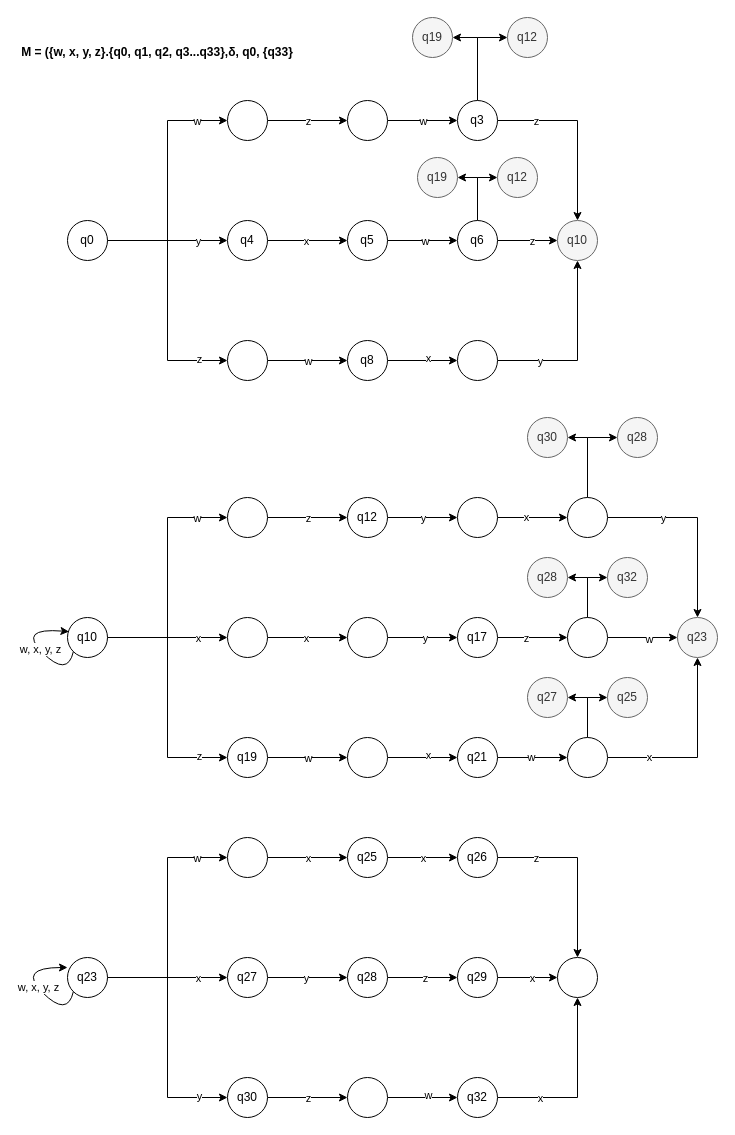
Image size: 735x1135. Some labels were removed from this diagram. Each missing label, with the centre of its shape:
"q1" belongs at point (247, 120).
"q11" belongs at point (247, 517).
"q13" belongs at point (477, 517).
"q14" belongs at point (587, 517).
"q15" belongs at point (247, 637).
"q16" belongs at point (367, 637).
"q18" belongs at point (587, 637).
"q2" belongs at point (367, 120).
"q20" belongs at point (367, 757).
"q22" belongs at point (587, 757).
"q24" belongs at point (247, 857).
"q31" belongs at point (367, 1097).
"q33" belongs at point (577, 977).
"q7" belongs at point (247, 360).
"q9" belongs at point (477, 360).
